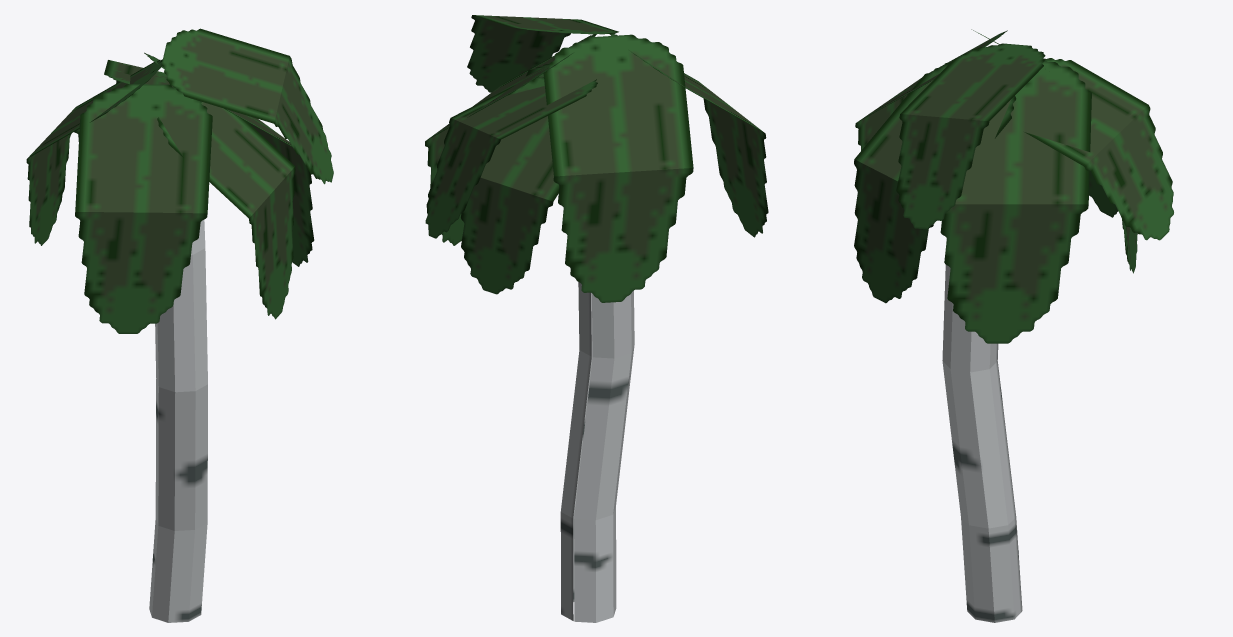
File: Coqueiro1.fbx
The picture shows the model from 3 angles, left to right: view 1: azimuth 30°, elevation 25°; view 2: azimuth 150°, elevation 25°; view 3: azimuth 270°, elevation 25°; orthographic projection. The views are drawn at different scales.
Visible parts, largest first — view 1: Coqueiro1; view 2: Coqueiro1; view 3: Coqueiro1.
Boxes of the visible parts, <box> form: Coqueiro1: <box>26,28,333,622</box>; Coqueiro1: <box>425,15,768,622</box>; Coqueiro1: <box>854,29,1173,622</box>.
Bounding box in the file's own units: 711 × 715 × 1157.
